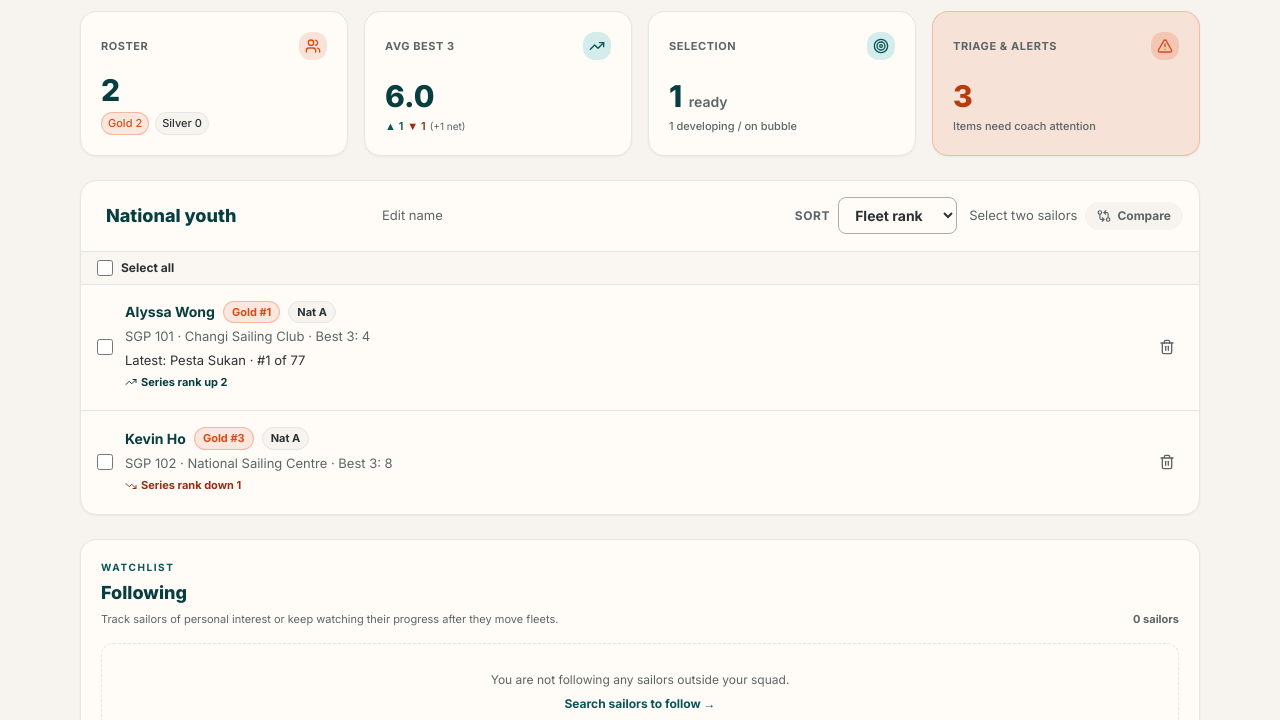
Scenario: CoachDashboard › opens the sailor detail drawer with counting scores and official races
(page scrolled)
Click the button with aria-label "Open Alyssa Wong details" at (149, 336), box [125,327,1139,394]
(page scrolled)
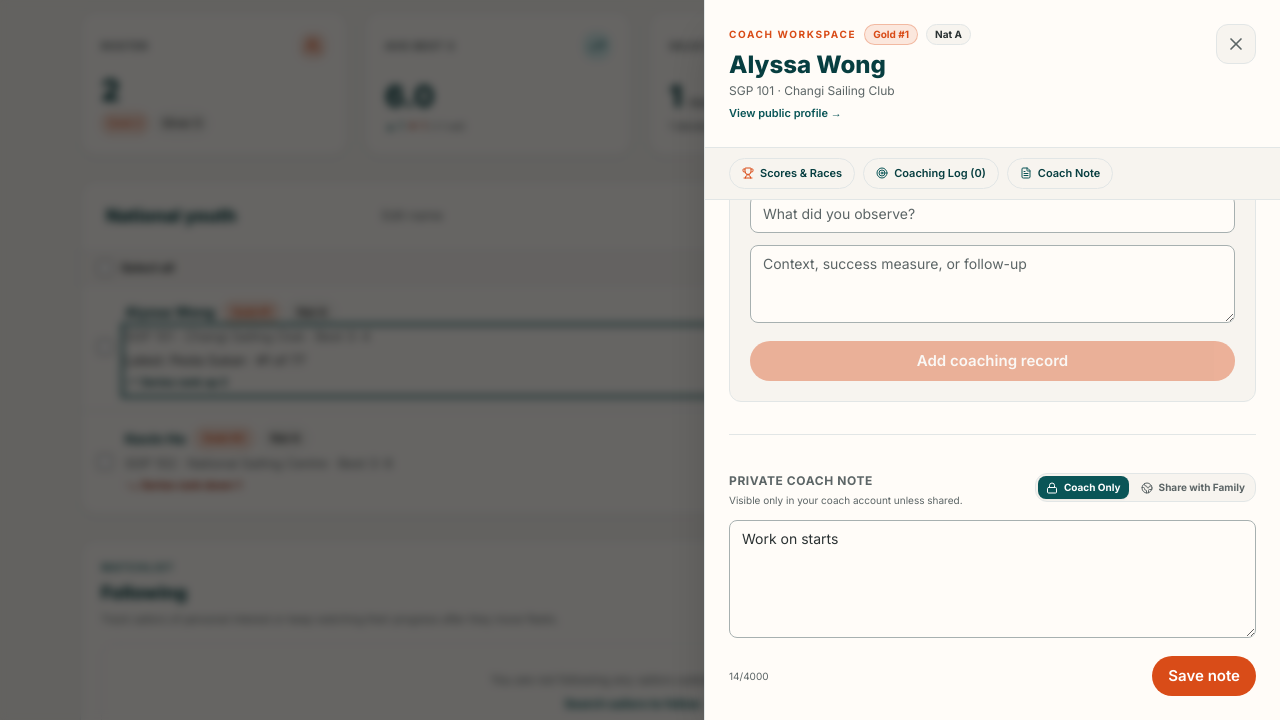
Expected: the dialog named "Alyssa Wong coach details" is shown
Expected: the text box showing "Work on starts" is shown, [729,520,1256,638]
